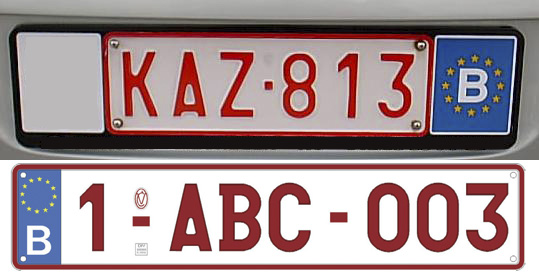license plate: (7, 21, 527, 158), (8, 161, 526, 271)
